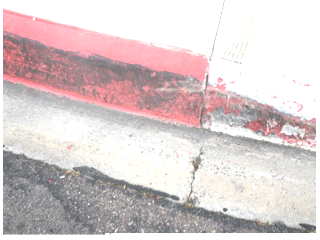Edge: (4, 29, 317, 154)
